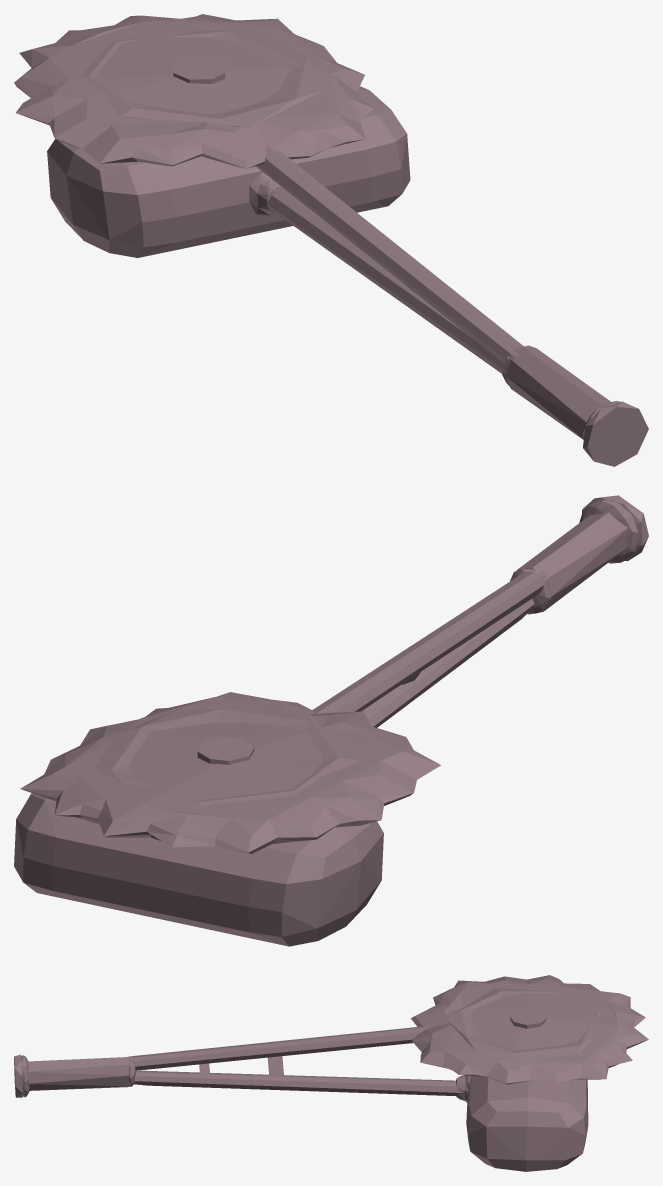
Rendered from meleeWeapon.fbx.
3 renders of one model, top to bottom at view 1: azimuth 30°, elevation 25°; view 2: azimuth 150°, elevation 25°; view 3: azimuth 270°, elevation 25°, orthographic. The views are drawn at different scales.
Visible parts, largest first — view 1: MeleeWeapon; view 2: MeleeWeapon; view 3: MeleeWeapon.
Boxes of the visible parts, left/top/right/bottom form: MeleeWeapon: left=14, top=14, right=648, bottom=466; MeleeWeapon: left=14, top=495, right=648, bottom=946; MeleeWeapon: left=14, top=975, right=648, bottom=1171.
Bounding box in the file's own units: 49.29 × 21.33 × 119.
